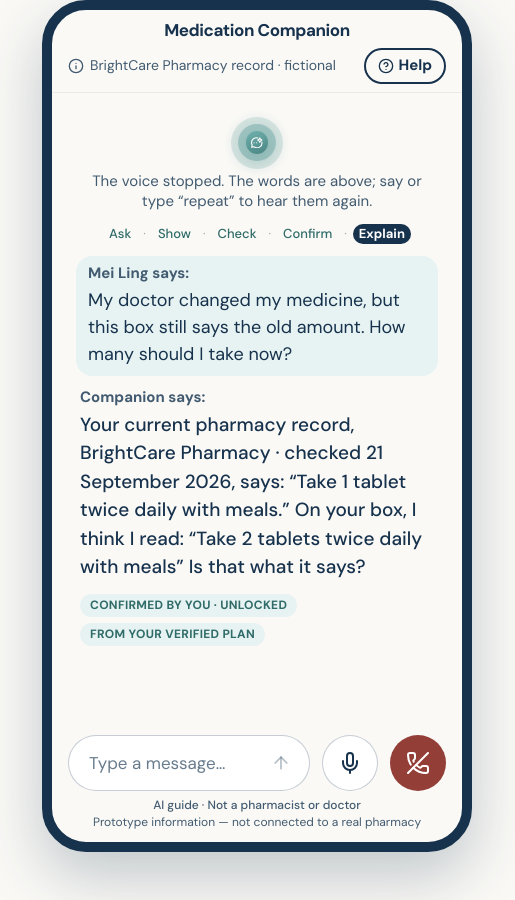
Test: dose-change journey in the call (UI) › a new summary opens at its first line ('To'), not its last, and stays there while it is read
Check: the text "On your box, I think I read: “Take 2 tablets twice daily with meals” Is that what it says?" is shown, box [80,412,422,579]
Type "yes" into the field at (171, 763), box [89,736,253,790]
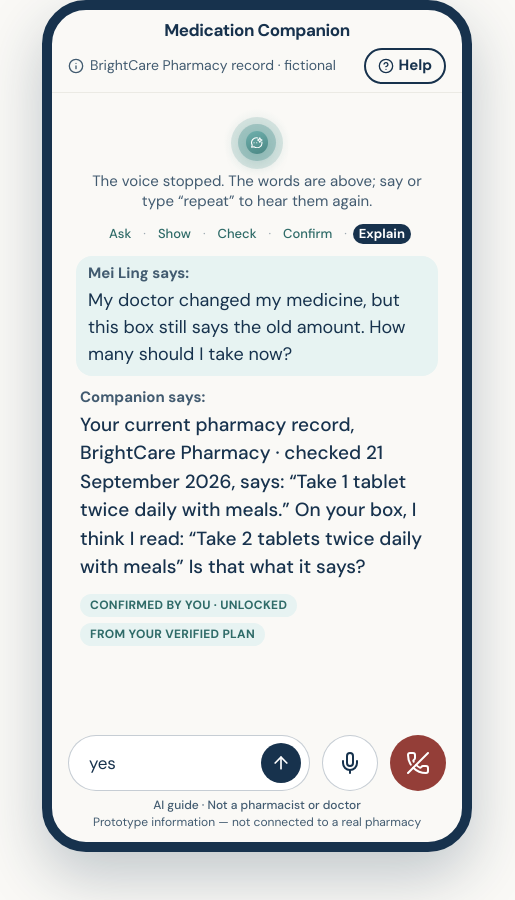
Submit the form, box [68,735,310,791]
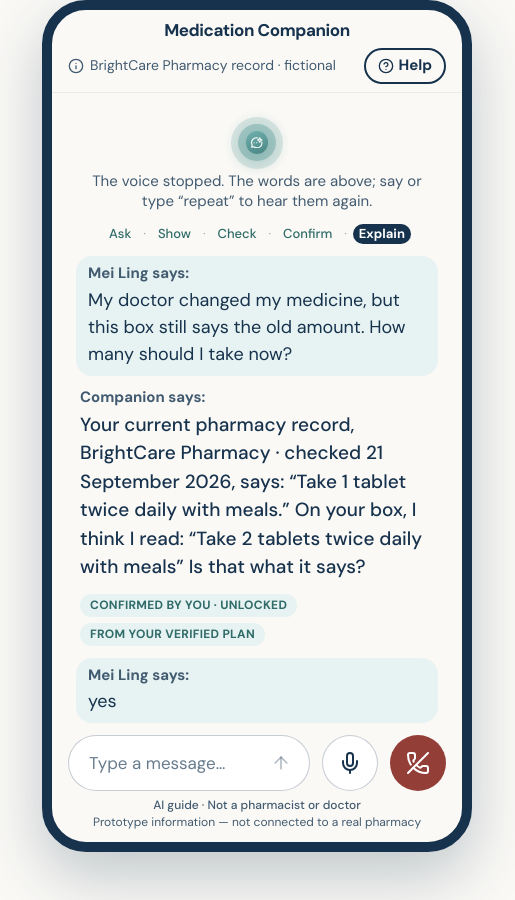
Type "ask a pharmacist" into the field at (171, 763), box [89,736,253,790]
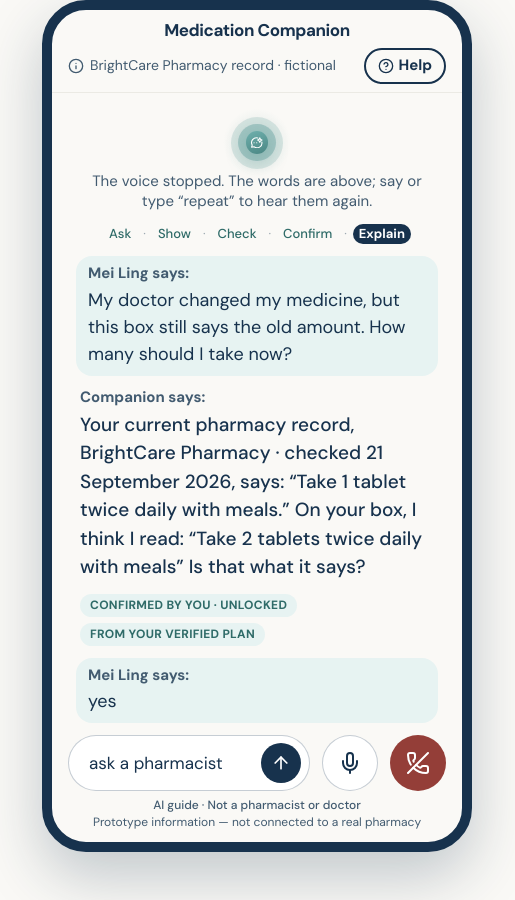
Submit the form, box [68,735,310,791]
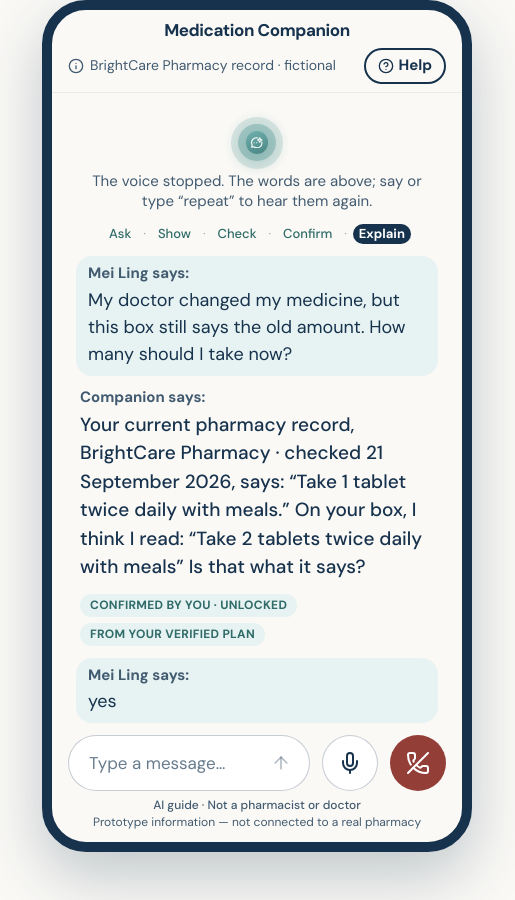
Type "yes please" into the field at (171, 763), box [89,736,253,790]
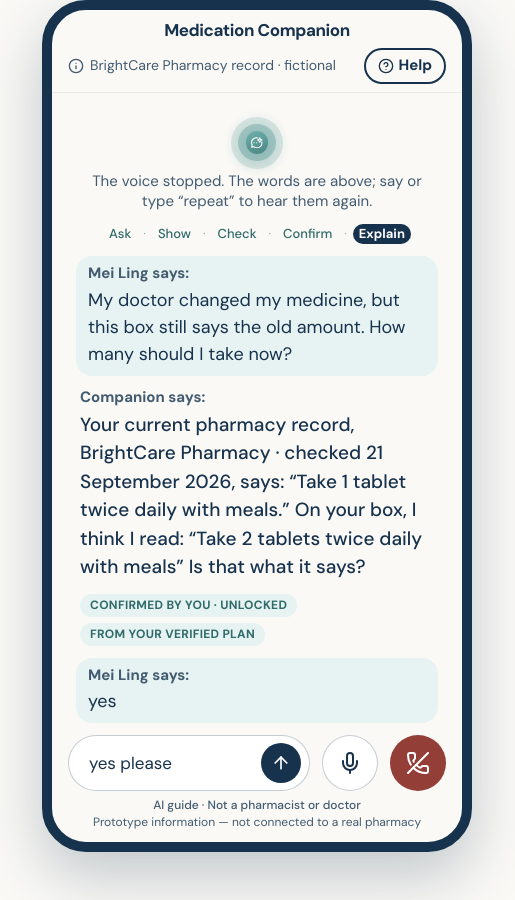
Submit the form, box [68,735,310,791]
(page scrolled)
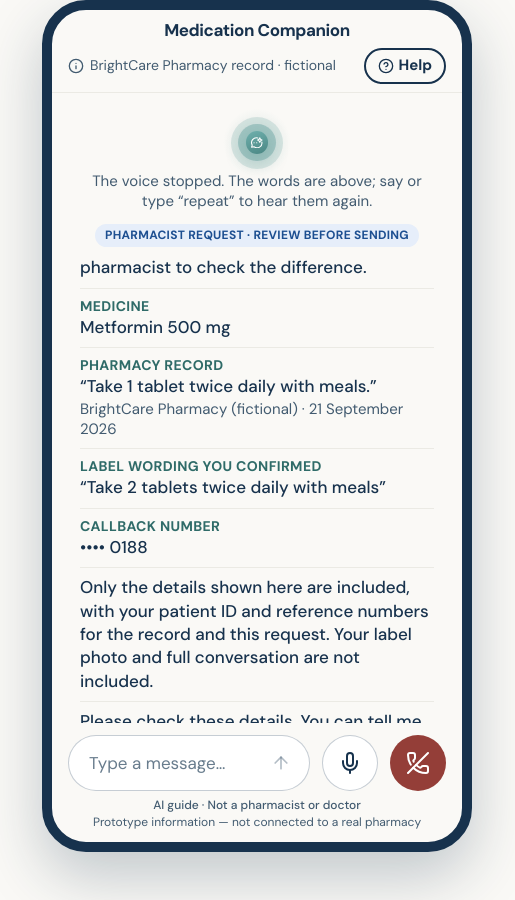
Check: the element that starts with "BrightCare Pharmacy — fictional demo" is shown, box [80,251,434,723]
